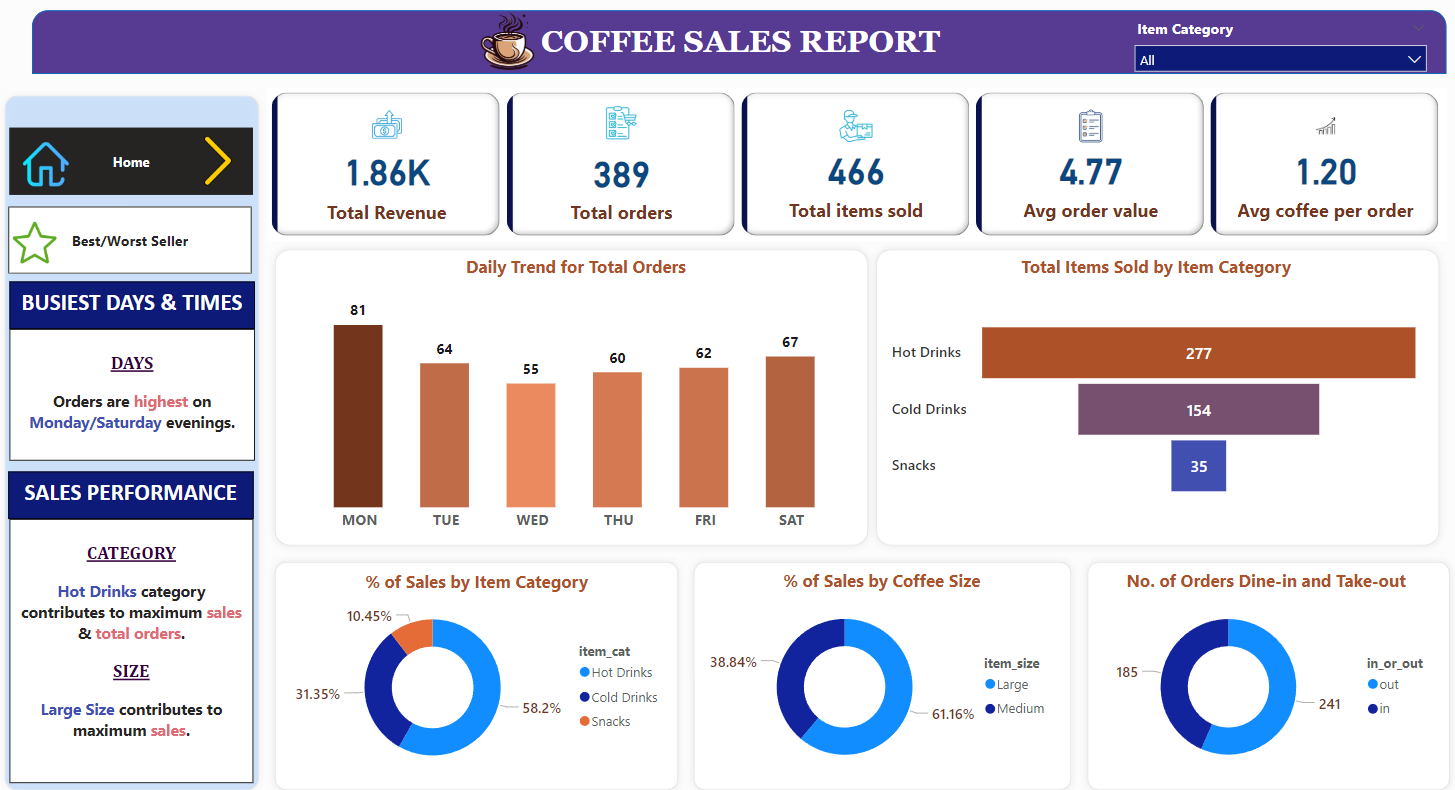

The dashboard page shown, as its layout file describes it:
{"tool":"powerbi","page":{"name":"Home","canvas":[1500,820],"ordinal":0},"visuals":[{"type":"cardVisual","fields":{"Data":["All Measures.Total Revenue","All Measures.Total orders","All Measures.Total items sold","All Measures.Average order value","All Measures.Average coffee per order"]},"box":[277.1,90.5,1211.6,157.4],"z":0},{"type":"shape","box":[36.2,11.1,1452.6,65.5],"z":1000},{"type":"textbox","box":[536.2,20.9,454,48.7],"z":2000},{"type":"image","box":[193.6,7,661.5,73.8],"z":3000},{"type":"shape","box":[277.1,249.3,625.3,320.3],"z":4000},{"type":"columnChart","title":"Daily Trend for Total Orders","fields":{"Category":["coffeesales coffee_report.Order day"],"Y":["All Measures.Total orders"]},"box":[305,263.2,578,292.5],"z":5000},{"type":"shape","box":[894.1,249.3,594.7,320.3],"z":6000},{"type":"shape","box":[277.1,569.6,430.3,250.7],"z":7000},{"type":"shape","box":[707.5,569.6,403.9,250.7],"z":8000},{"type":"shape","box":[1111.4,569.6,388.6,250.7],"z":9000},{"type":"donutChart","title":"% of Sales by Item Category","fields":{"Category":["coffeesales coffee_report.item_cat"],"Y":["All Measures.Total Revenue"]},"box":[292.5,586.3,399.7,218.6],"z":10000},{"type":"donutChart","title":"% of Sales by Coffee Size","fields":{"Category":["coffeesales coffee_report.item_size"],"Y":["All Measures.Total Revenue"]},"box":[722.8,584.9,371.8,220],"z":11000},{"type":"funnel","title":"Total Items Sold by Item Category","fields":{"Category":["coffeesales coffee_report.item_cat"],"Y":["All Measures.Total items sold"]},"box":[913.6,263.2,552.9,292.5],"z":12000},{"type":"donutChart","title":"No. of Orders Dine-in and Take-out","fields":{"Category":["coffeesales coffee_report.in_or_out"],"Y":["All Measures.Total orders"]},"box":[1118.3,584.9,370.5,220],"z":13000},{"type":"shape","box":[0,90.5,277.1,729.8],"z":14000},{"type":"textbox","box":[12.5,289.7,252.1,48.7],"z":15000},{"type":"textbox","box":[12.5,338.4,252.1,135.1],"z":16000},{"type":"textbox","box":[11.1,484.6,252.1,48.7],"z":17000},{"type":"textbox","box":[12.5,533.4,250.7,271.6],"z":18000},{"type":"slicer","fields":{"Values":["coffeesales coffee_report.item_cat"]},"box":[1157.3,15.3,320.3,61.3],"z":19000},{"type":"pageNavigator","box":[12.5,132.3,250.7,69.6],"z":20000},{"type":"pageNavigator","box":[11.1,213.1,250.7,69.6],"z":21000},{"type":"image","box":[193.6,136.5,66.8,59.9],"z":22000},{"type":"image","box":[22.3,140.7,57.1,57.1],"z":23000},{"type":"image","box":[11.1,218.6,54.3,64.1],"z":24000}]}

Visuals, with their boxes in screenshot pixels (x1, y1, x2, y2), scaled from the page's 1500x820 canvas onto the 1455x790 screenshot:
cardVisual - All Measures.Total Revenue x All Measures.Total orders: box=[269, 87, 1444, 239]
shape: box=[35, 11, 1444, 74]
textbox: box=[520, 20, 960, 67]
image: box=[188, 7, 829, 78]
shape: box=[269, 240, 875, 549]
"Daily Trend for Total Orders" columnChart: box=[296, 254, 857, 535]
shape: box=[867, 240, 1444, 549]
shape: box=[269, 549, 686, 789]
shape: box=[686, 549, 1078, 789]
shape: box=[1078, 549, 1454, 789]
"% of Sales by Item Category" donutChart: box=[284, 565, 671, 775]
"% of Sales by Coffee Size" donutChart: box=[701, 564, 1062, 775]
"Total Items Sold by Item Category" funnel: box=[886, 254, 1423, 535]
"No. of Orders Dine-in and Take-out" donutChart: box=[1085, 564, 1444, 775]
shape: box=[0, 87, 269, 789]
textbox: box=[12, 279, 257, 326]
textbox: box=[12, 326, 257, 456]
textbox: box=[11, 467, 255, 514]
textbox: box=[12, 514, 255, 776]
slicer - coffeesales coffee_report.item_cat: box=[1123, 15, 1433, 74]
pageNavigator: box=[12, 127, 255, 195]
pageNavigator: box=[11, 205, 254, 272]
image: box=[188, 132, 253, 189]
image: box=[22, 136, 77, 191]
image: box=[11, 211, 63, 272]
